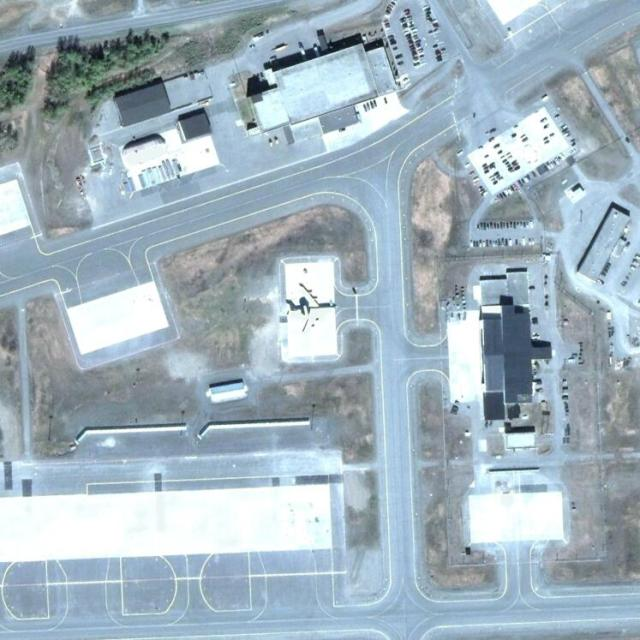fighter jet: (280, 281, 334, 329)
